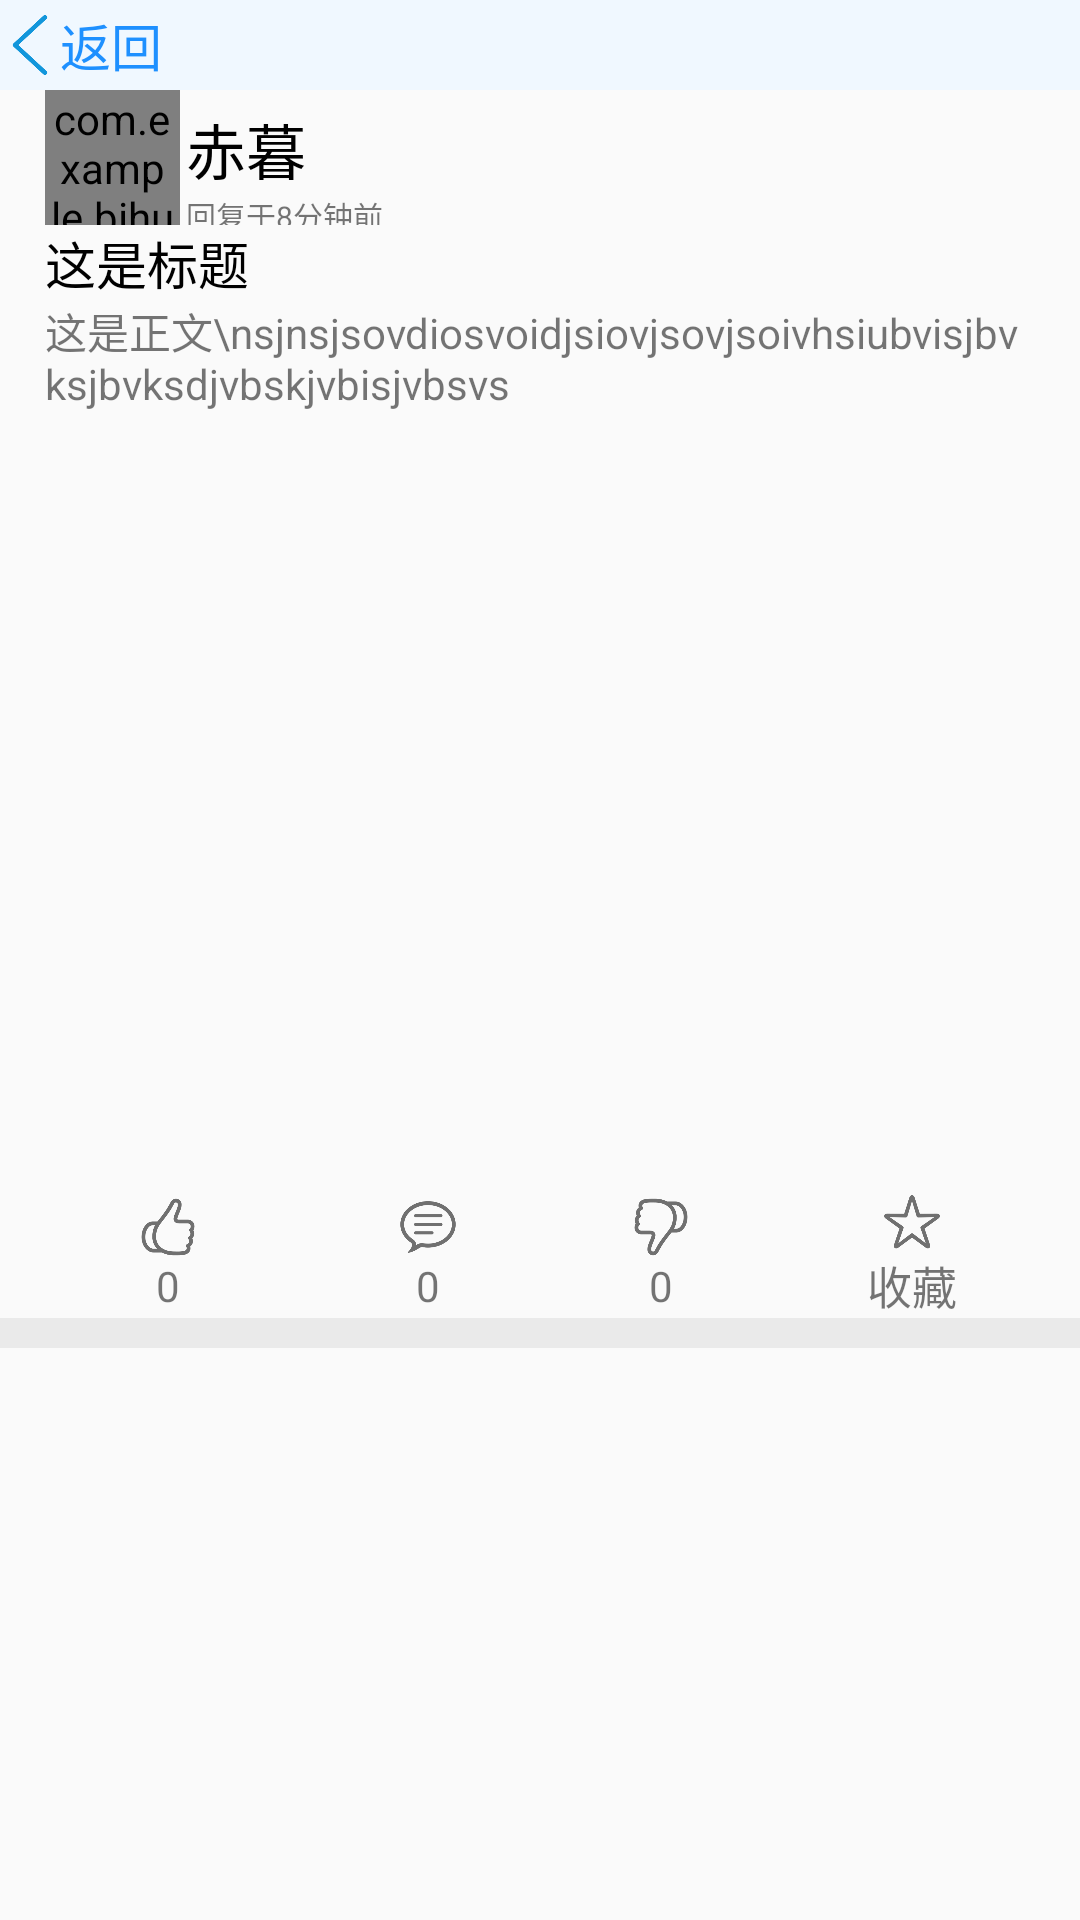

Icon click points for this 1080 x 1920 phone screenshot, format (x=x, y=y):
chat bubble text: (x=428, y=1227)
